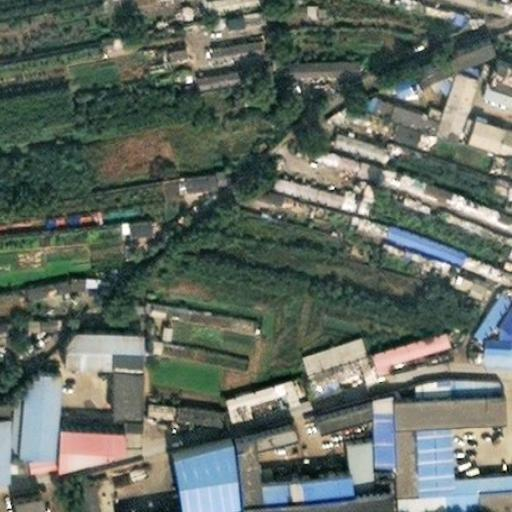building: (352, 148, 512, 220), (363, 179, 500, 247), (217, 413, 284, 497), (158, 429, 228, 506), (380, 129, 483, 178), (227, 479, 372, 512), (381, 33, 476, 81), (379, 383, 491, 417), (10, 359, 46, 462), (426, 58, 473, 136), (147, 300, 255, 333), (358, 83, 433, 128), (152, 337, 248, 372), (433, 464, 512, 506), (216, 370, 290, 414), (368, 334, 451, 371), (282, 129, 355, 171), (46, 417, 112, 463), (245, 461, 334, 494), (402, 415, 443, 482), (463, 276, 512, 332), (51, 318, 126, 354), (376, 216, 451, 252), (298, 336, 359, 378), (307, 168, 370, 205), (205, 28, 265, 66), (298, 388, 362, 423), (272, 185, 339, 217), (61, 467, 103, 512), (142, 36, 186, 76), (356, 387, 381, 457), (476, 51, 512, 99), (404, 366, 490, 386), (380, 416, 405, 482), (479, 143, 512, 190), (373, 110, 426, 139), (127, 497, 229, 512), (98, 354, 126, 408), (138, 393, 213, 413), (327, 123, 377, 153), (279, 48, 353, 68), (382, 481, 434, 508), (196, 64, 247, 91), (455, 103, 492, 140), (330, 456, 377, 485), (417, 0, 467, 24), (447, 242, 492, 268), (459, 332, 512, 354), (184, 168, 227, 195), (482, 113, 512, 151), (334, 95, 377, 120), (225, 4, 266, 29), (266, 167, 310, 189), (332, 427, 359, 460), (15, 276, 55, 295), (490, 227, 512, 260), (3, 487, 32, 512), (129, 216, 160, 237), (64, 272, 101, 287), (112, 408, 126, 434)
